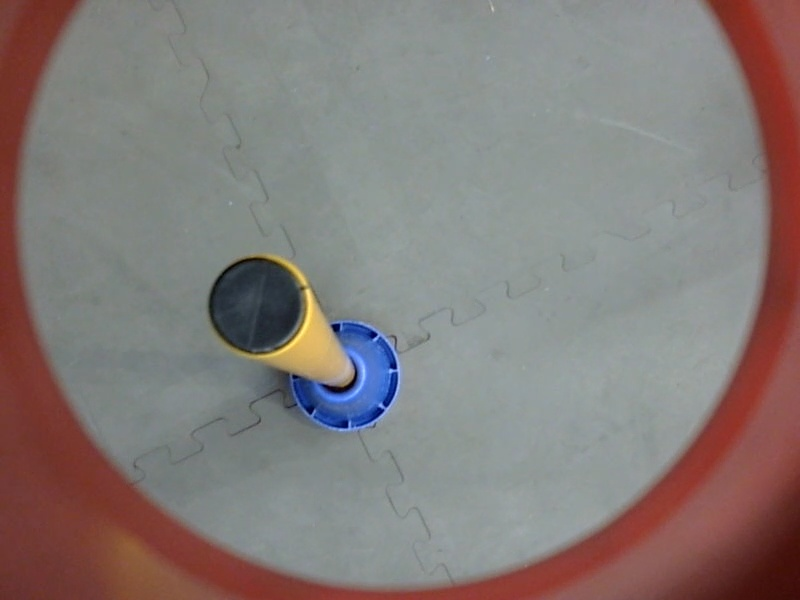tip: (201, 253, 316, 366)
